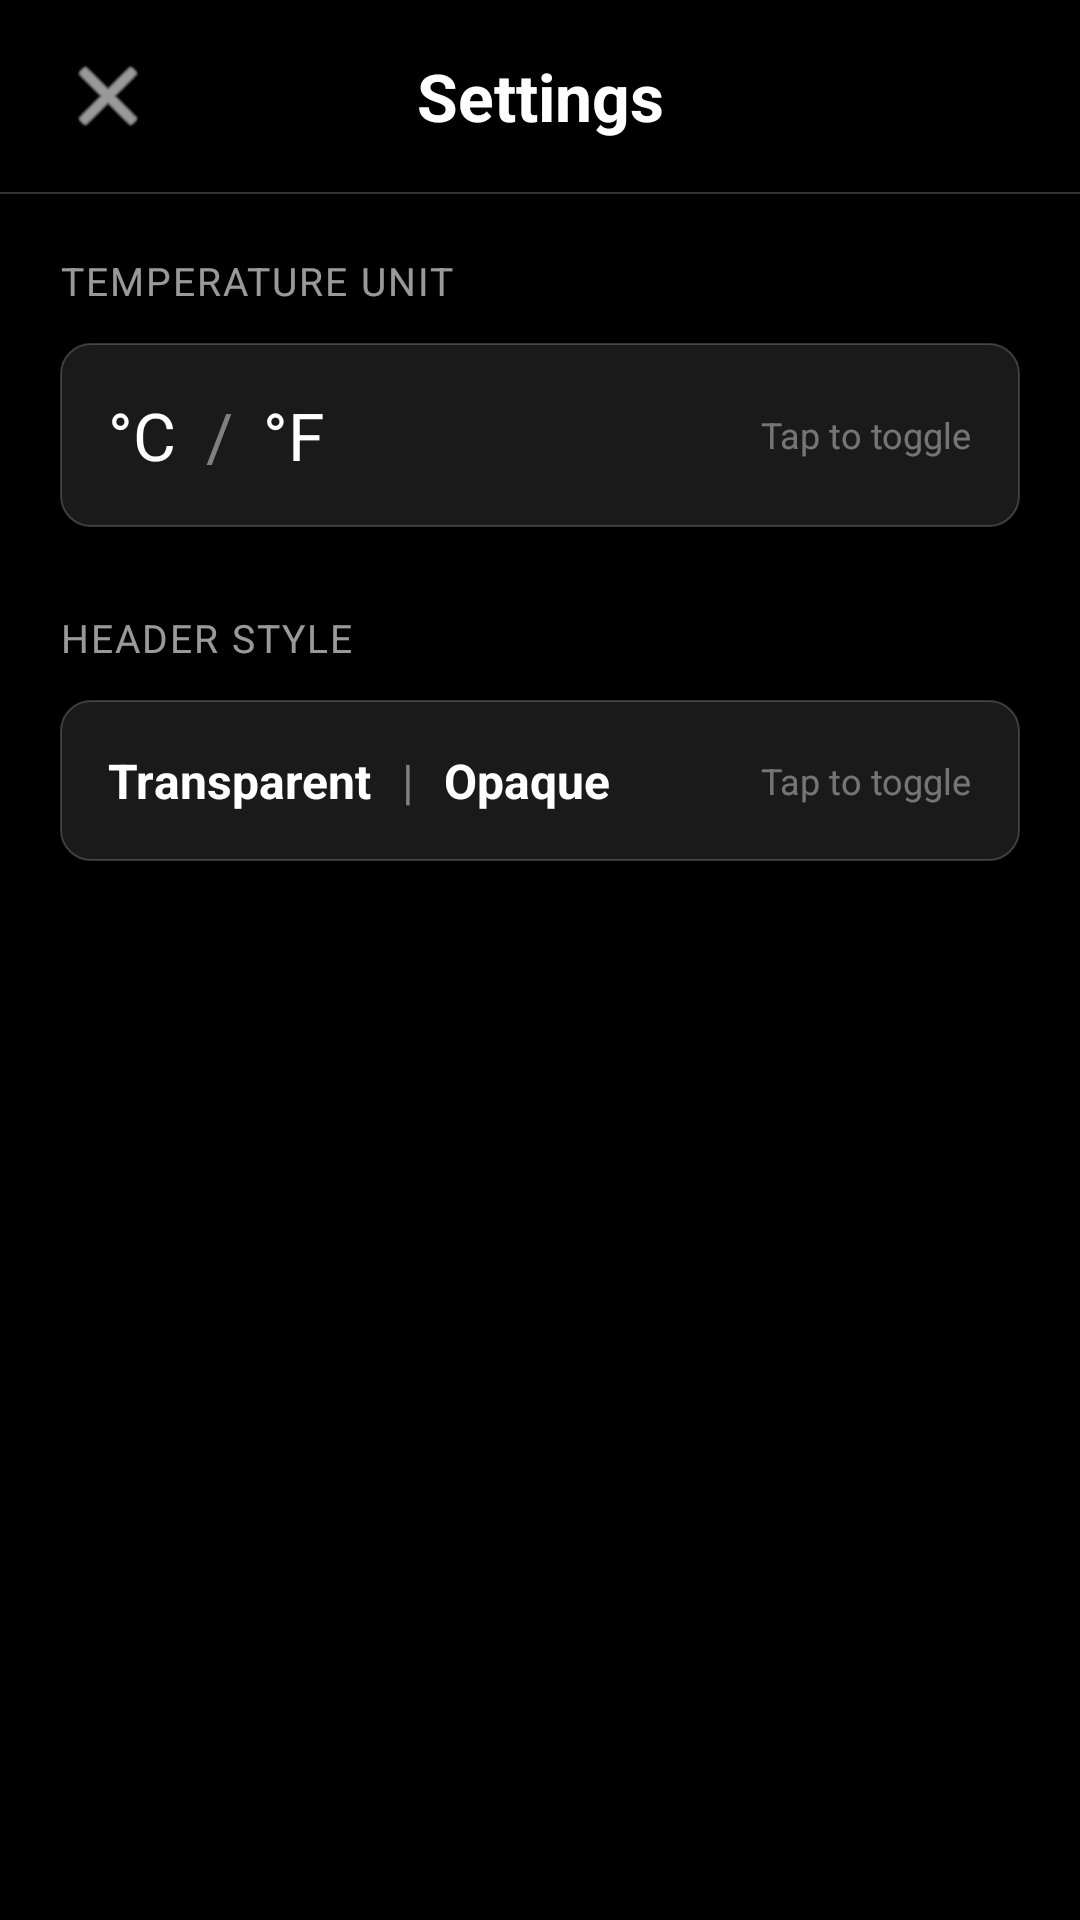

Where icons sit on this 1080px x 1920px app screen, as bbox=(x1, y1, x2, y2):
Back: bbox=(78, 66, 138, 126)
